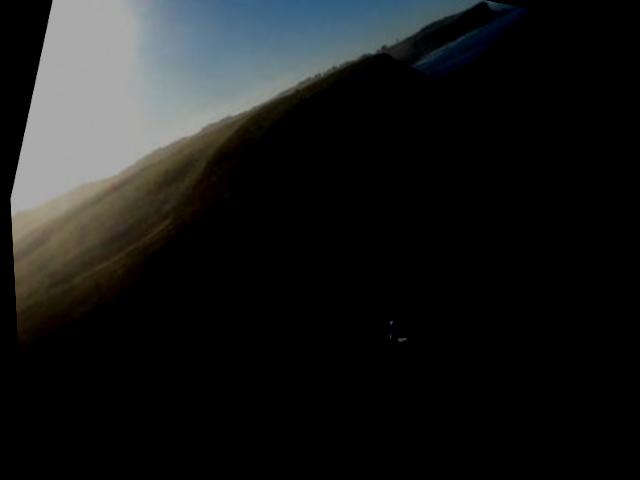uav: (338, 310, 438, 370)
